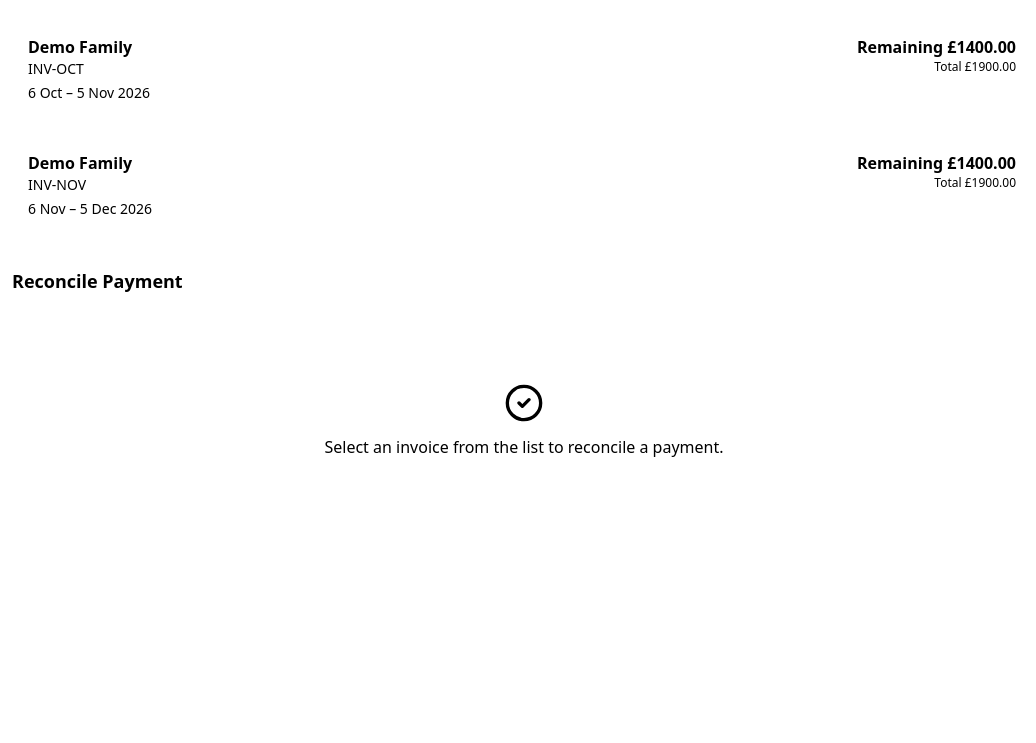
Test: reconciliation payment context › requires confirmation and clears payment details when the invoice changes
Click the 1st button: point(56, 68) [12,19,1032,127]
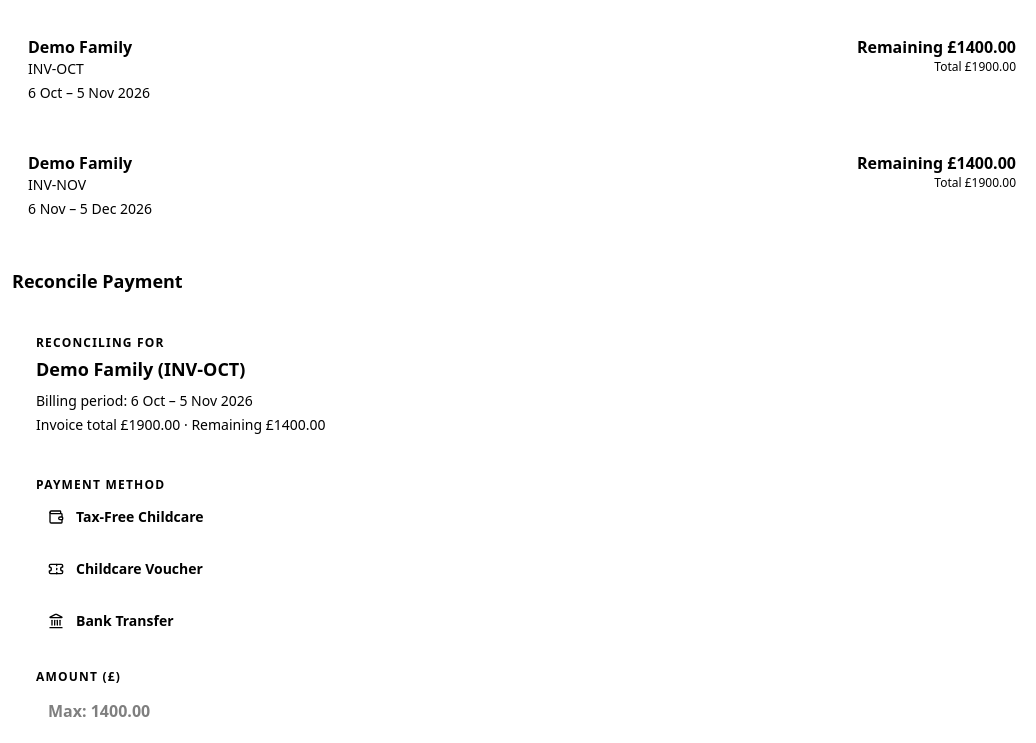
In the number field labelled "Amount (£)": point(524, 711) [36,687,1012,735], type "500"
(page scrolled)
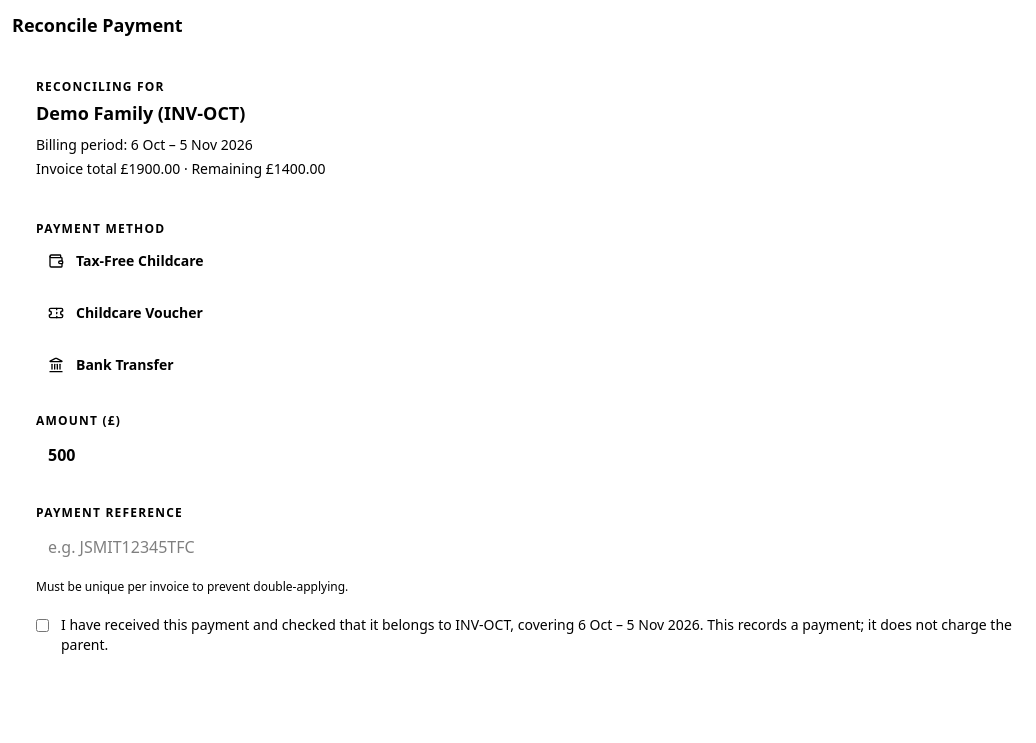
In the field labelled "Payment Reference": point(524, 547) [36,523,1012,571], type "BANK-123"
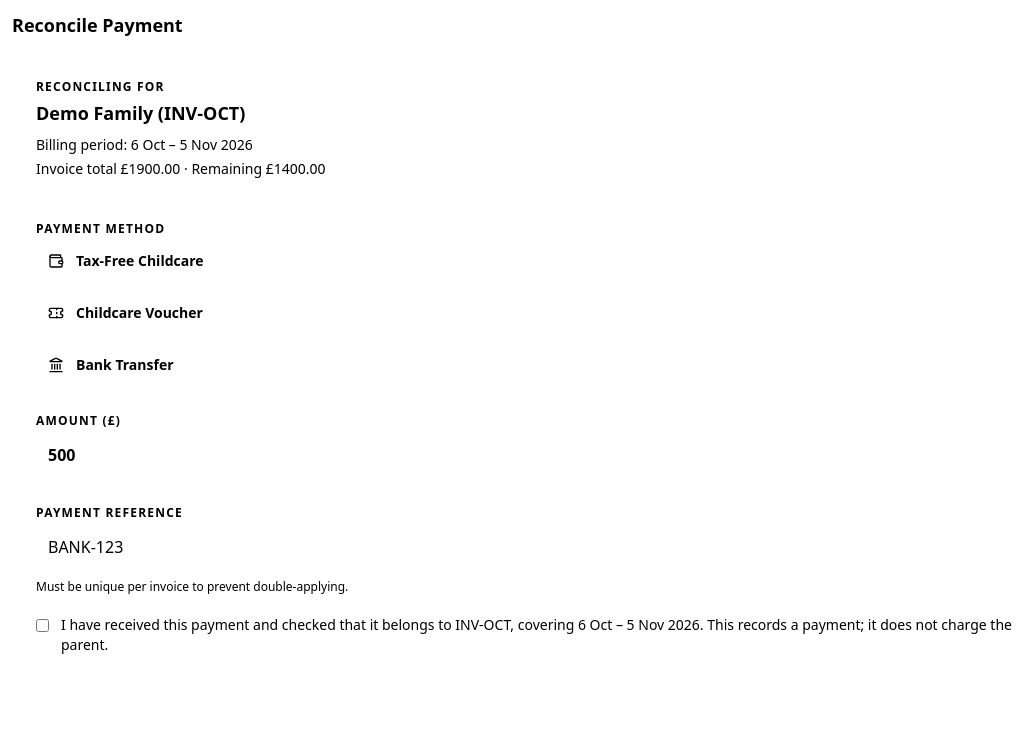
Click the checkbox: point(42, 626) [36,619,49,632]
(page scrolled)
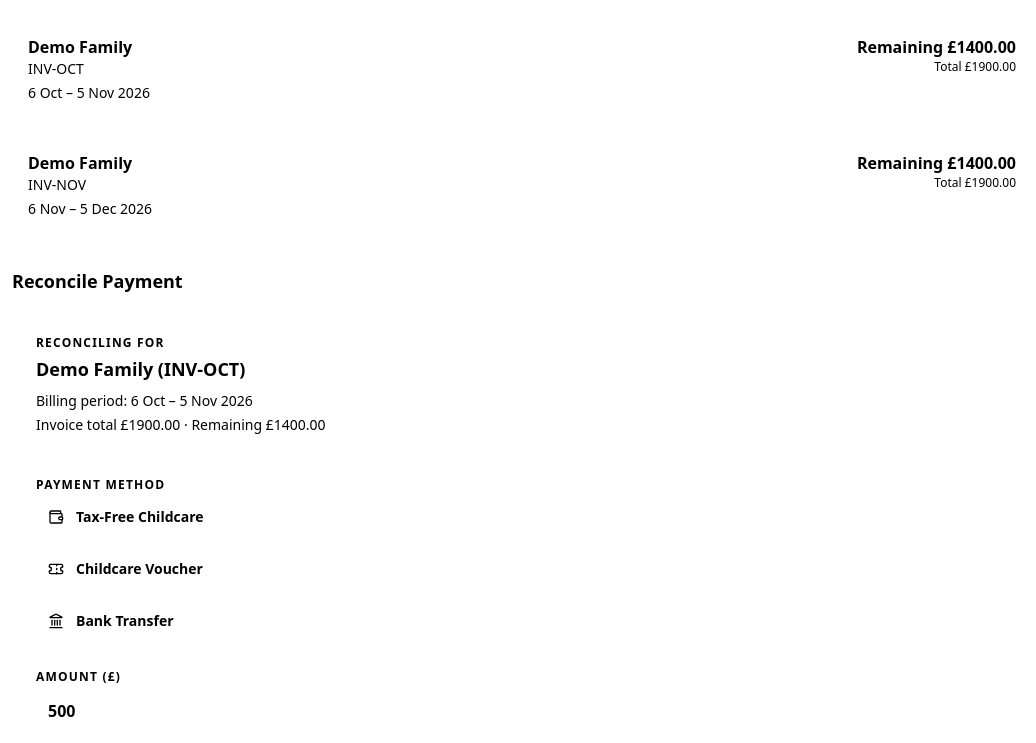
Click the button "INV-NOV": point(57, 184) [12,135,1032,243]
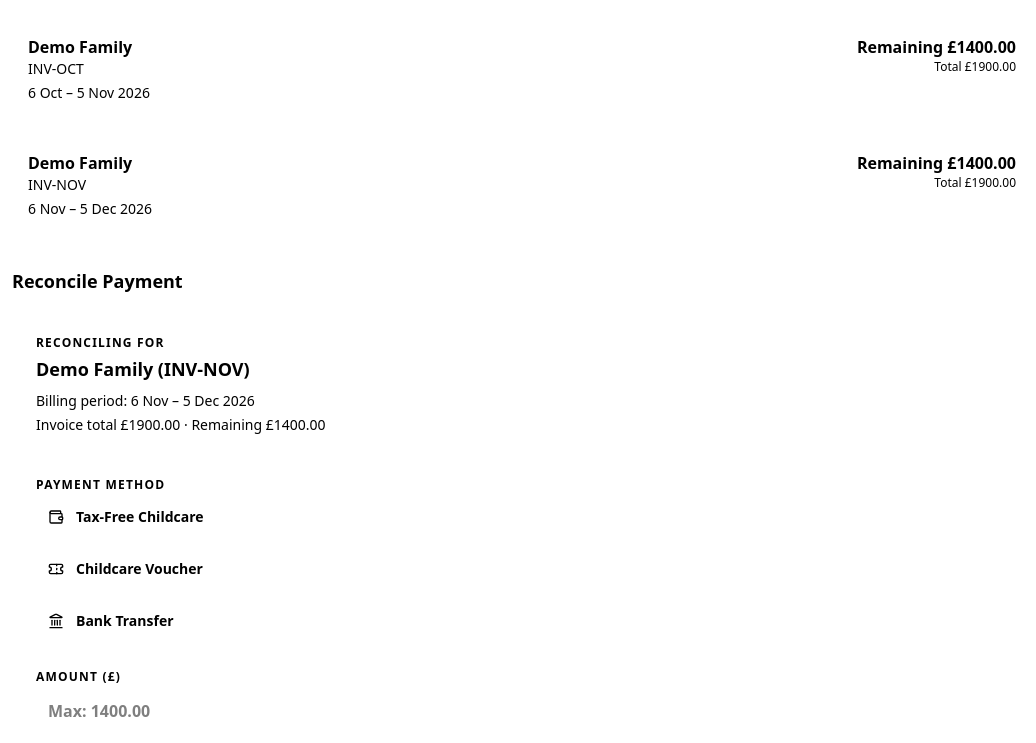
Expected: the number field labelled "Amount (£)" is empty, [36,687,1012,735]
Expected: the text "Billing period: 6 Nov – 5 Dec 2026" is shown, [36,391,255,410]
